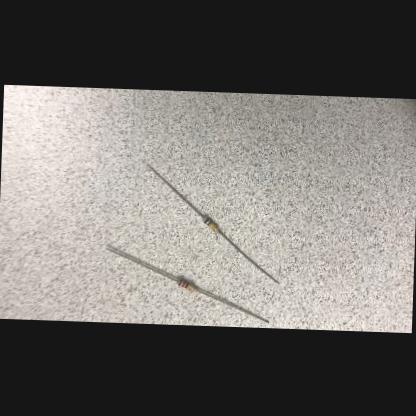resistor: (202, 215, 220, 231), (177, 278, 196, 290)
wire: (218, 228, 281, 282), (146, 164, 204, 218), (194, 288, 270, 322), (105, 247, 178, 280)
